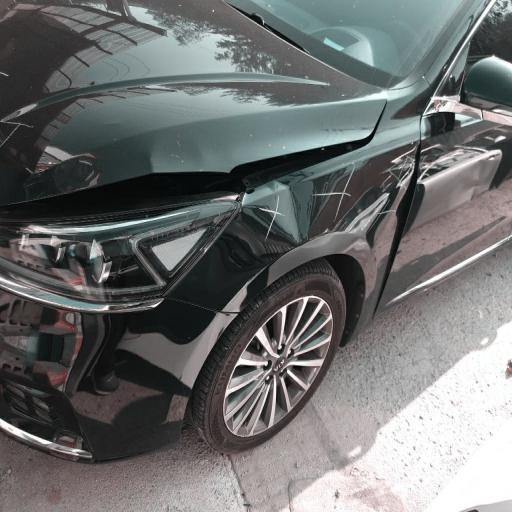dent: (58, 94, 403, 186)
scratch: (133, 187, 420, 273)
